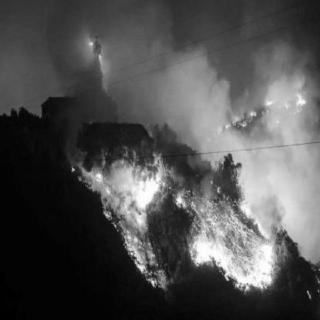Smoke: (26, 6, 313, 143)
